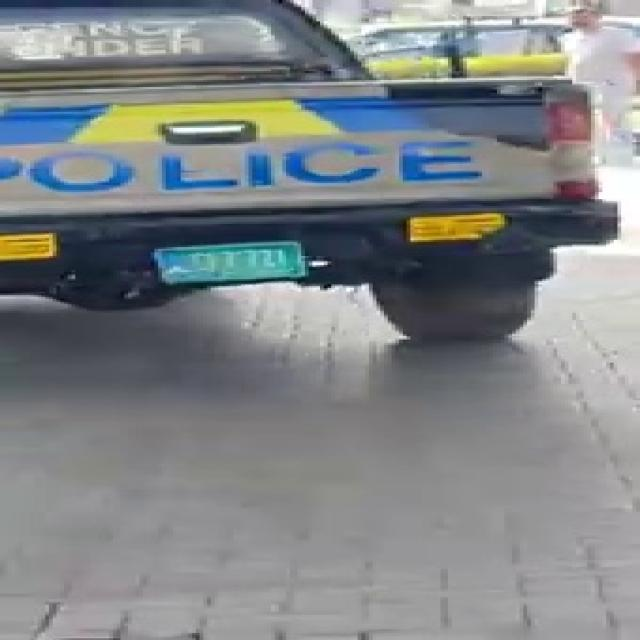police: (0, 22, 578, 350)
